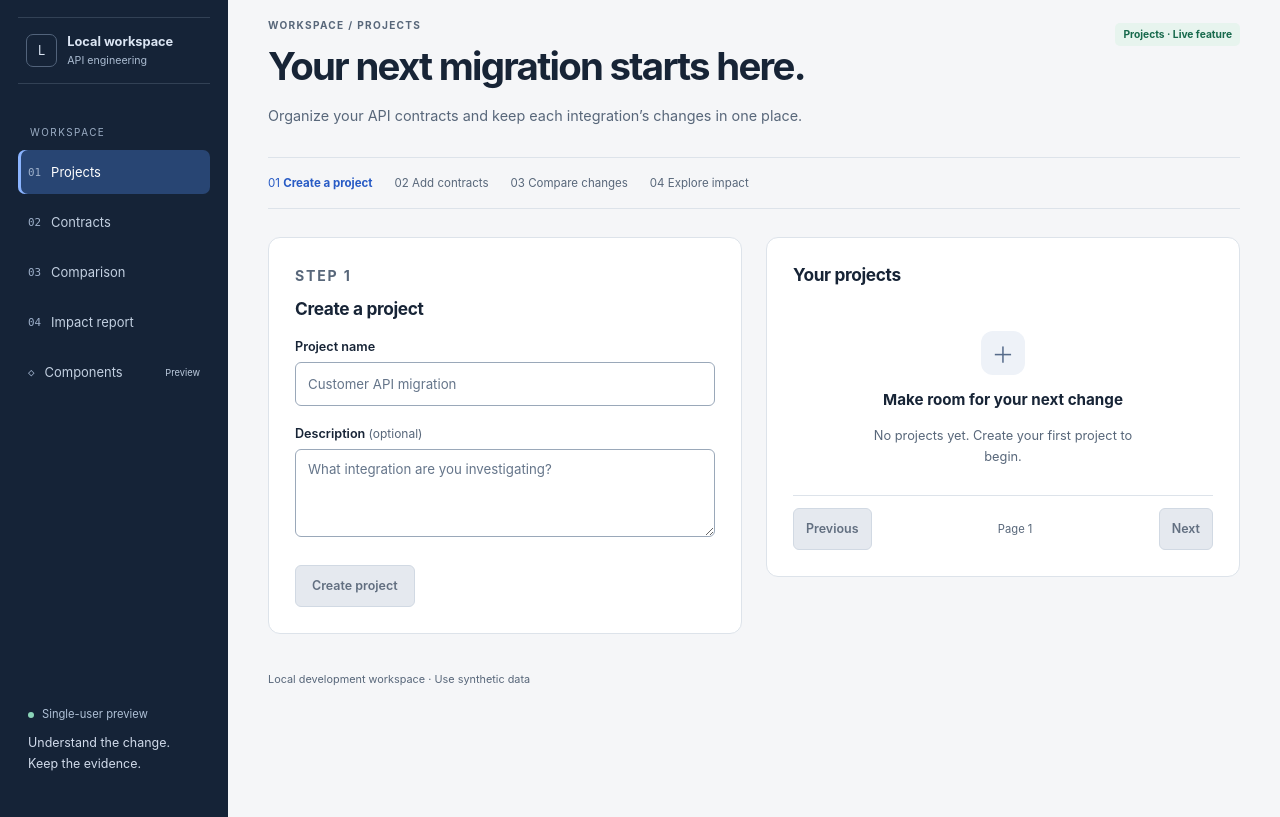
Test: creates a project through HTTP, refreshes the list and selects the saved project
This screenshot has width=1280, height=817.
Expected: the text "No projects yet. Create your first project to begin." is shown, [863,425,1143,467]
Expected: the button "Create project" is disabled, [295,564,415,606]
Type "  Customer API  " into the field labelled "Project name" at (505, 384), box [295,362,715,406]
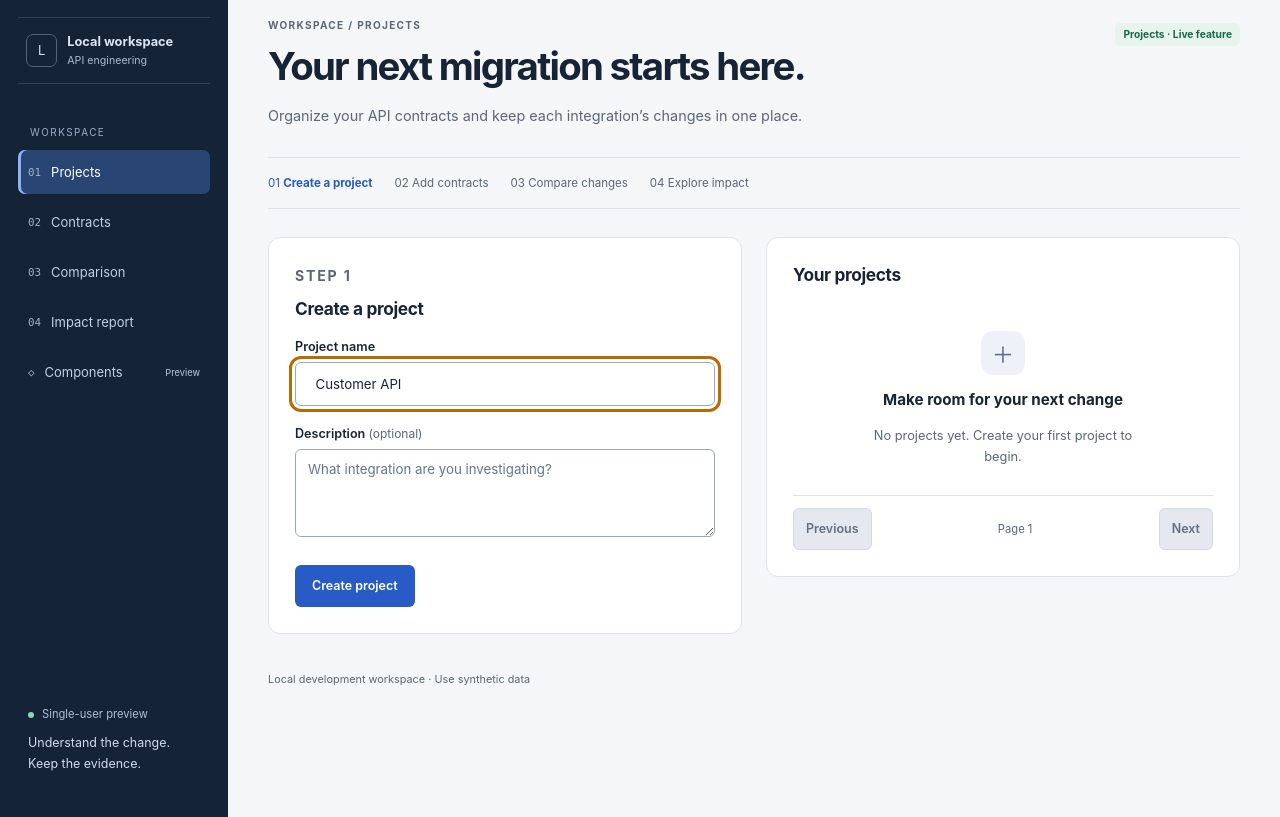
Type "Synthetic integration" into the text box labelled "Description (optional)" at (505, 492), box [295,448,715,536]
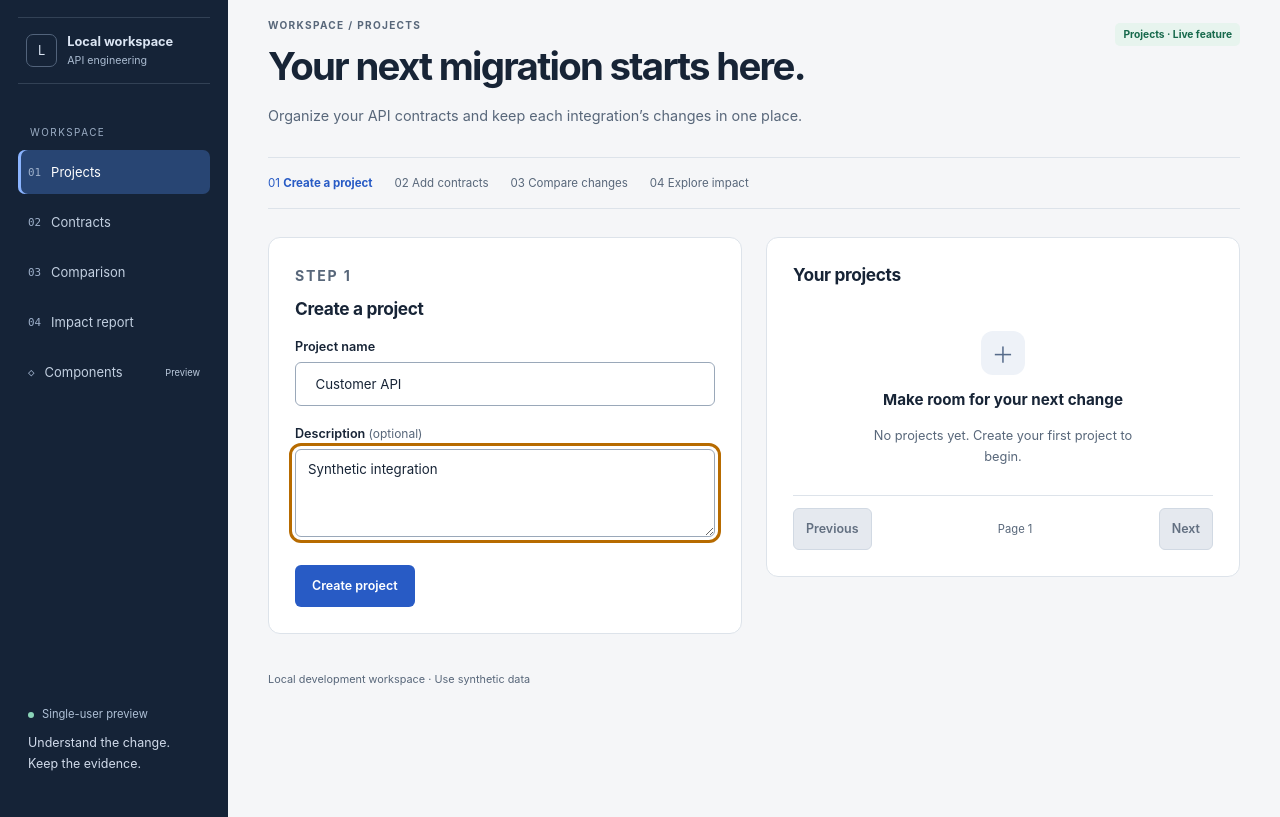
Click the button "Create project" at (355, 586), box [295,564,415,606]
(page scrolled)
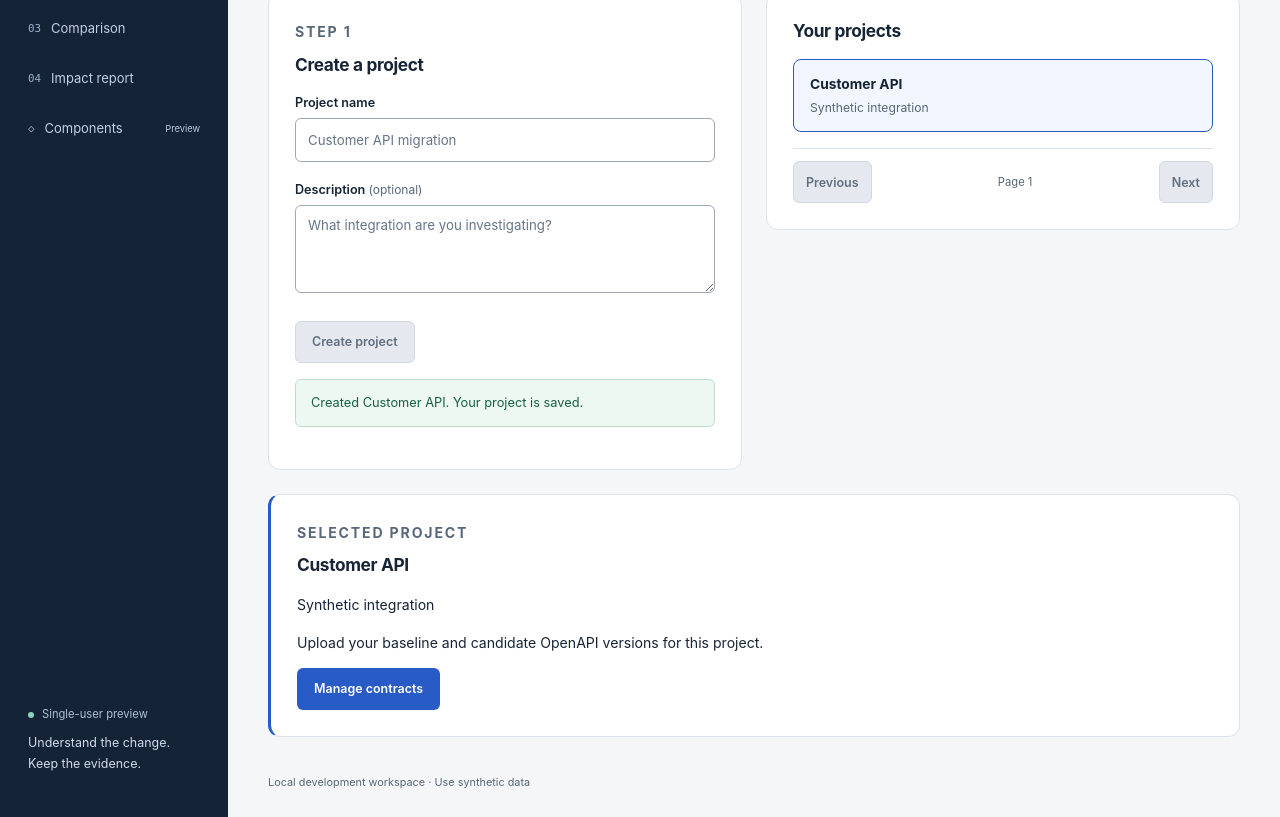
Expected: the text "Created Customer API. Your project is saved." is shown, [295,378,715,427]
Expected: the field labelled "Project name" is empty, [295,118,715,162]
Expected: the text "Synthetic integration" below "SELECTED PROJECT" is shown, [297,596,434,613]
